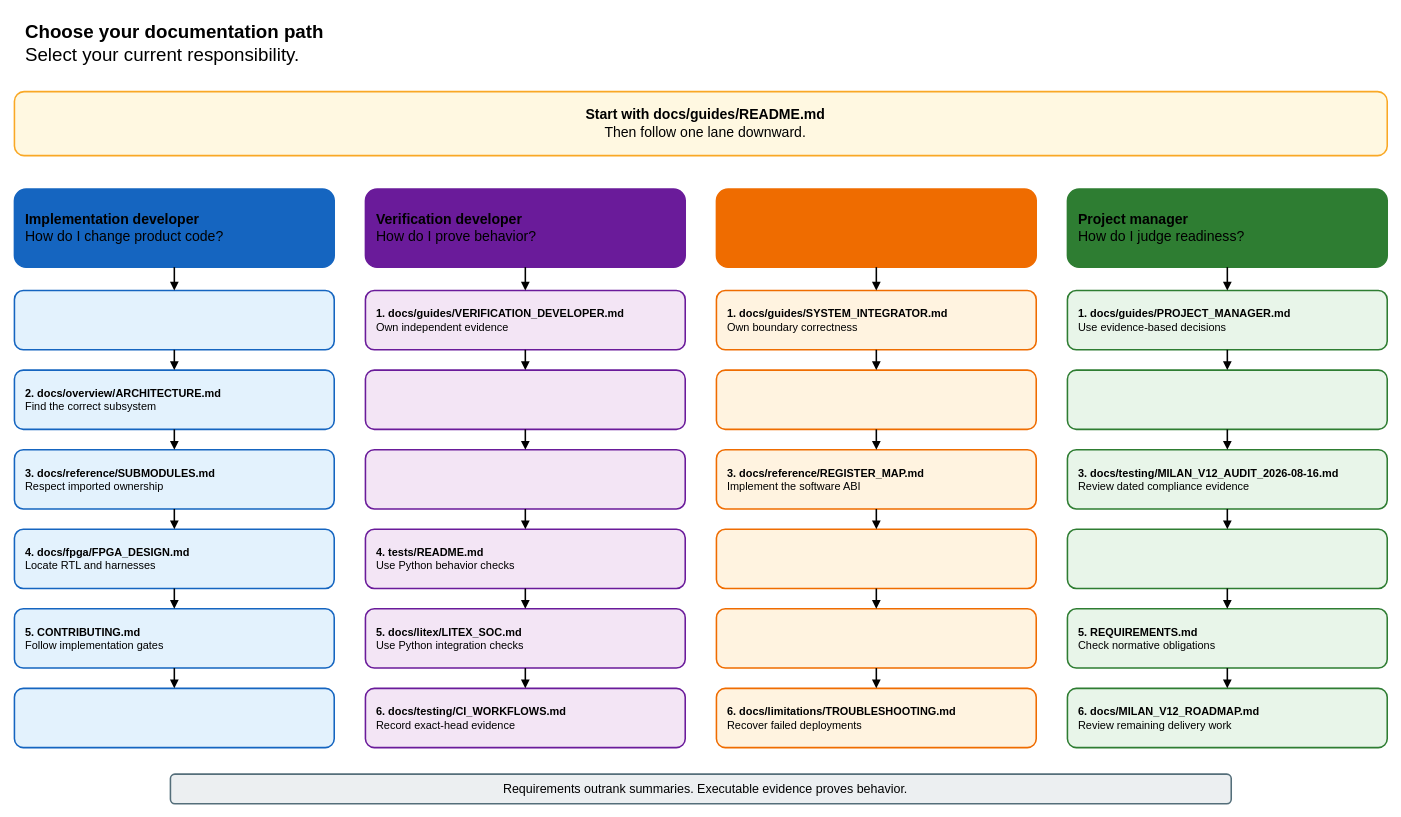
This 1401x817 diagram has some shape labels left out. Here are the shapes that lost their labels. From the top down, the centre of each, then its label:
(876,228): System integrator How do I connect everything?
(174,319): 1. docs/guides/IMPLEMENTATION_DEVELOPER.md Own the product change
(525,399): 2. docs/testing/TESTING.md Choose the correct layer
(876,399): 2. docs/integration/INTEGRATION_GUIDE.md Wire datapath interfaces
(1227,399): 2. docs/DOCUMENTATION_AUDIT.md Review documentation health
(525,478): 3. tb/verilator/README.md Use C++ cycle checks
(876,558): 4. docs/litex/LITEX_SOC.md Review the reference integration
(1227,558): 4. docs/reference/MILAN_FEATURE_STATUS.md Check canonical feature status
(876,638): 5. docs/integration/BUILDING.md Build matched artifacts
(174,717): 6. tb/verilator/README.md Run focused RTL evidence
